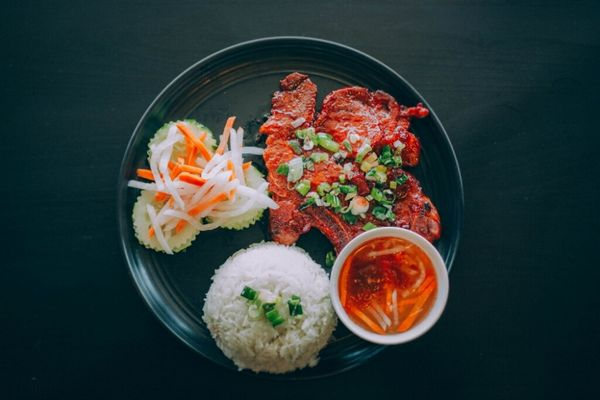sushi: (114, 35, 478, 381), (330, 226, 451, 346)
